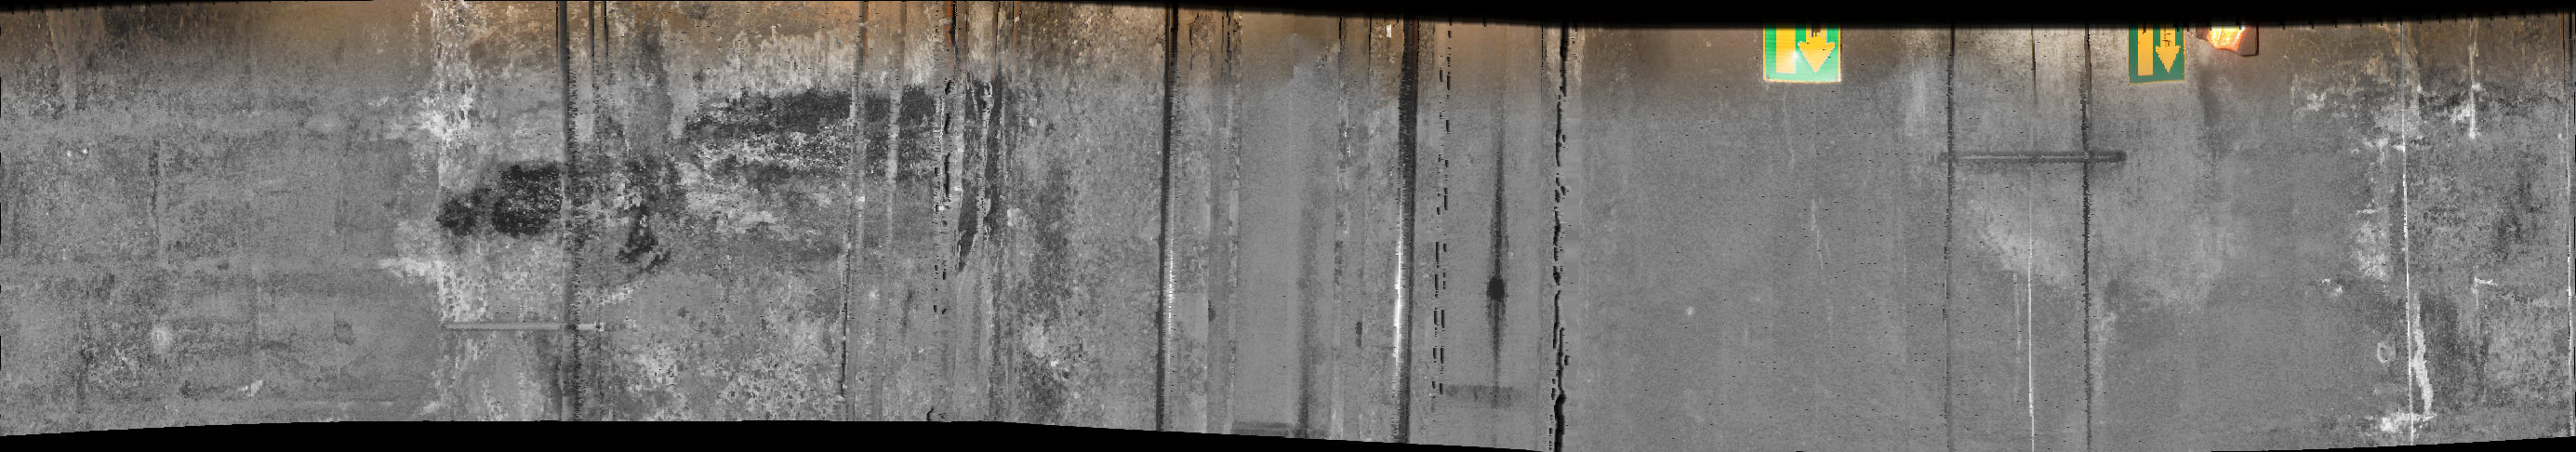light: (2211, 26, 2262, 61)
pipes: (550, 5, 613, 431), (2075, 23, 2103, 452), (1940, 20, 1966, 452), (2022, 26, 2039, 452)
sign: (1764, 23, 1842, 89), (2131, 26, 2193, 87)
tracks: (1033, 2, 1585, 452)
